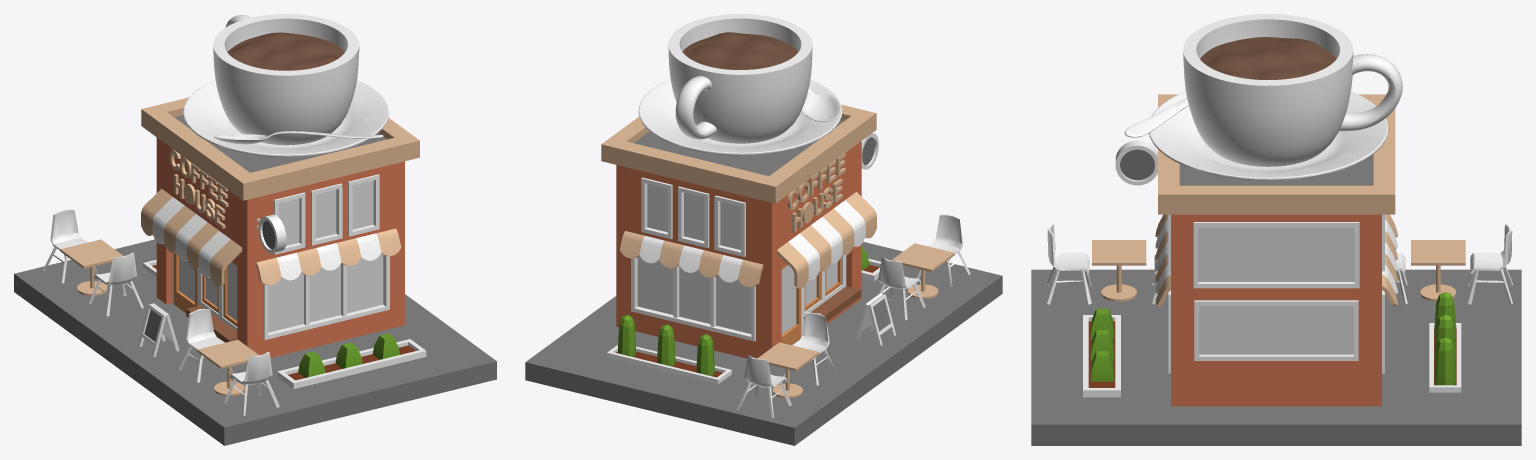
File: coffeShop.fbx
3 views of the same model, side by side, from view 1: azimuth 30°, elevation 25°; view 2: azimuth 150°, elevation 25°; view 3: azimuth 270°, elevation 25° (orthographic). The views are drawn at different scales.
Parts seen in each view (by area): view 1: spoon.002, spoon.003, spoon.004, spoon.008, spoon.015, spoon.012, spoon.006, spoon.009, spoon.001, spoon.013, spoon.011; view 2: spoon.002, spoon.003, spoon.004, spoon.008, spoon.015, spoon.012, spoon.009, spoon.006, spoon.001, spoon.013, spoon.011; view 3: spoon.003, spoon.002, spoon.008, spoon.015, spoon.004, spoon.012, spoon.006, spoon.009, spoon.013, spoon.007.
Part boxes in pixels (x1,y1,x2,y2): spoon.002: [43, 14, 426, 415]; spoon.003: [14, 239, 496, 445]; spoon.004: [60, 97, 419, 396]; spoon.008: [156, 137, 404, 363]; spoon.015: [179, 180, 383, 332]; spoon.012: [227, 32, 344, 70]; spoon.006: [298, 333, 399, 377]; spoon.009: [174, 115, 386, 249]; spoon.001: [174, 252, 237, 326]; spoon.013: [214, 131, 383, 144]; spoon.011: [186, 305, 237, 342]; spoon.002: [607, 14, 970, 418]; spoon.003: [525, 242, 1002, 445]; spoon.004: [601, 104, 954, 397]; spoon.008: [616, 141, 861, 358]; spoon.015: [637, 183, 837, 334]; spoon.012: [682, 32, 798, 69]; spoon.009: [634, 120, 874, 175]; spoon.006: [618, 246, 869, 375]; spoon.001: [781, 256, 841, 344]; spoon.013: [801, 88, 840, 122]; spoon.011: [804, 286, 861, 321]; spoon.003: [1031, 269, 1521, 445]; spoon.002: [1046, 14, 1512, 397]; spoon.008: [1171, 214, 1381, 406]; spoon.015: [1198, 227, 1354, 354]; spoon.004: [1092, 94, 1465, 306]; spoon.012: [1200, 37, 1336, 79]; spoon.006: [1090, 292, 1455, 385]; spoon.009: [1120, 149, 1373, 185]; spoon.013: [1124, 98, 1188, 137]; spoon.007: [1088, 321, 1456, 387].
Bounding box in the file's own units: 0.5991 × 0.6029 × 0.801.
